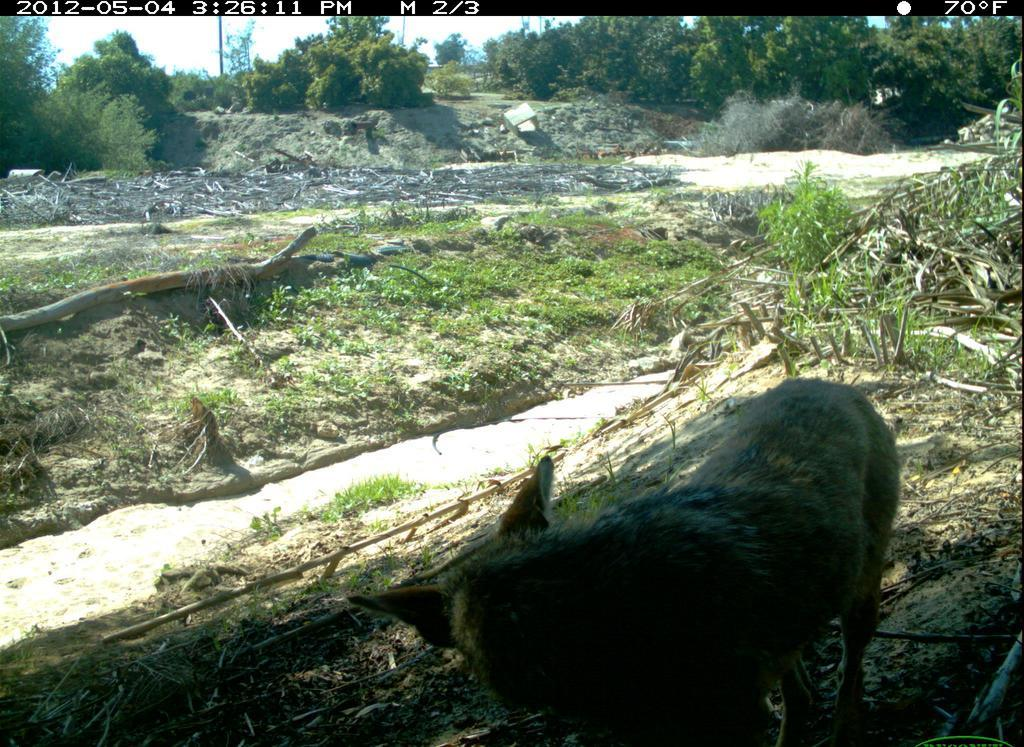coyote: (349, 372, 907, 747)
